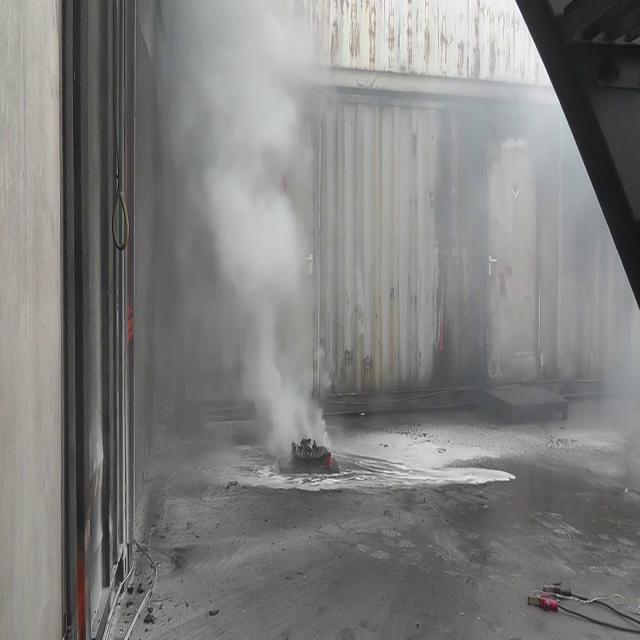Smoke: (140, 2, 334, 462)
